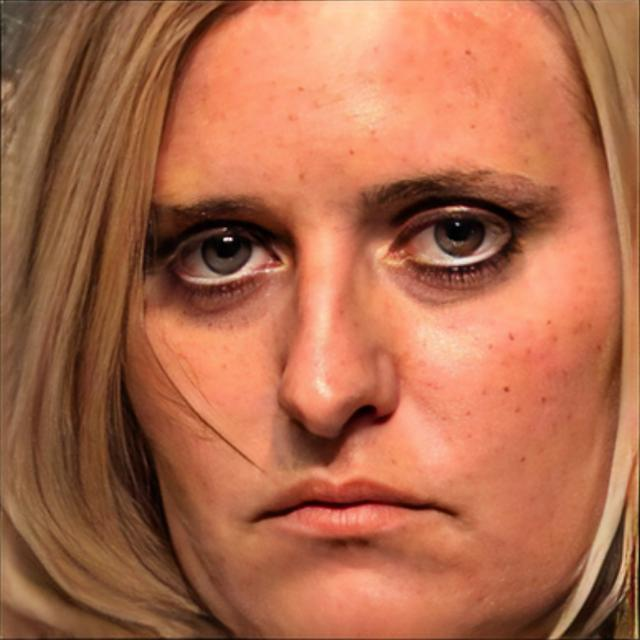sad: (114, 0, 627, 640)
